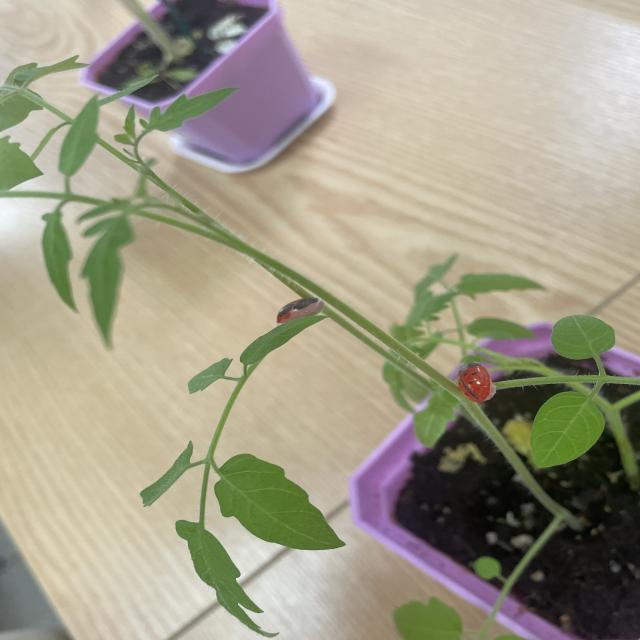bug: (250, 289, 330, 330), (447, 356, 504, 409)
